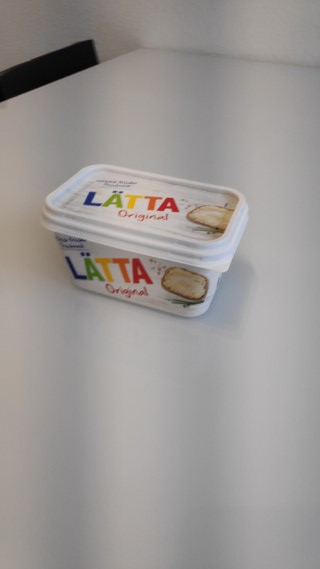laetta: (38, 161, 250, 318)
